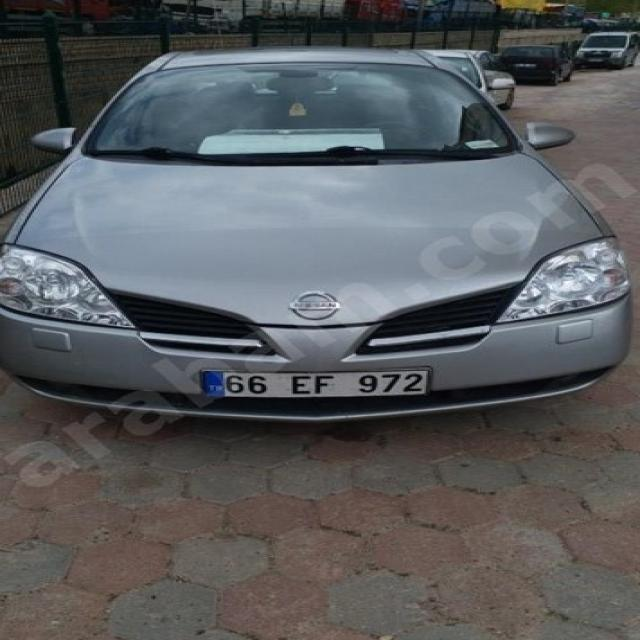license_plate: (201, 368, 430, 396)
